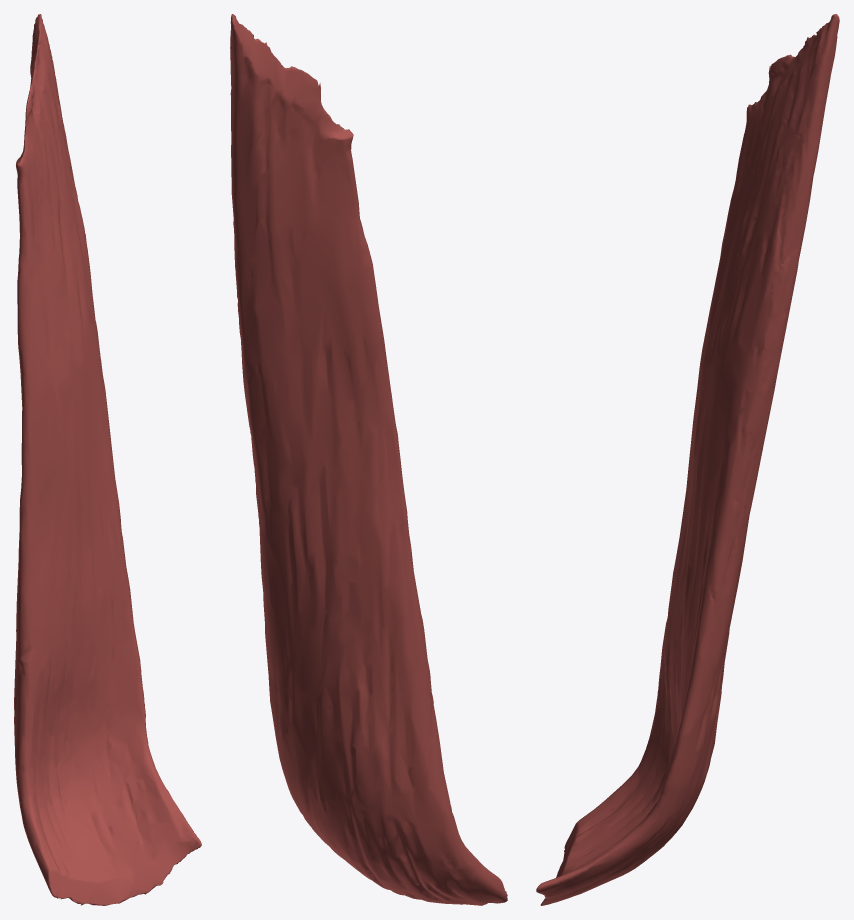
The model's file is FMA13351.glb.
3 views of the same model, side by side, from view 1: azimuth 30°, elevation 25°; view 2: azimuth 150°, elevation 25°; view 3: azimuth 270°, elevation 25° (orthographic). The views are drawn at different scales.
Parts seen in each view (by area): view 1: FMA13351; view 2: FMA13351; view 3: FMA13351.
Boxes of the visible parts, x1,y1,x2,y2 form: FMA13351: [14, 14, 201, 905]; FMA13351: [230, 14, 507, 905]; FMA13351: [536, 14, 839, 905].
Bounding box in the file's own units: 0.0177 × 0.0956 × 0.0289.
